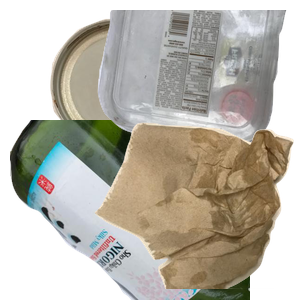glass: (10, 120, 250, 300)
metal: (47, 16, 214, 157)
plastic: (95, 10, 300, 154)
trash: (92, 120, 300, 300)
